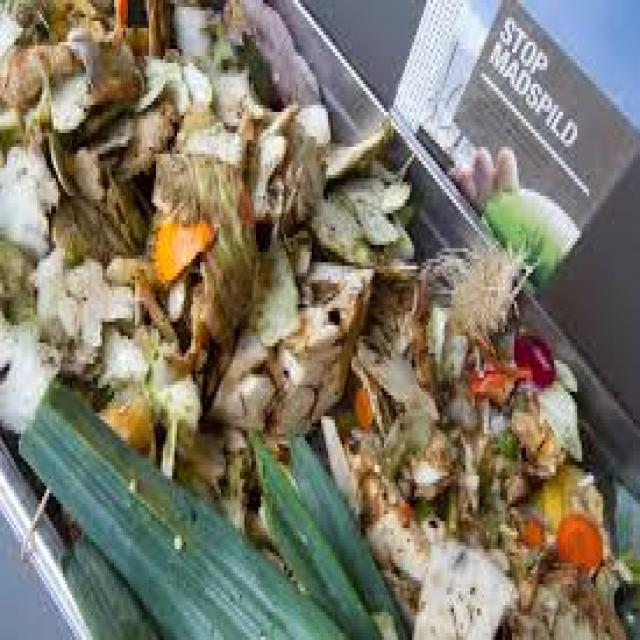Organik: (1, 2, 640, 639), (441, 220, 577, 400), (143, 185, 254, 308), (545, 488, 613, 605)
